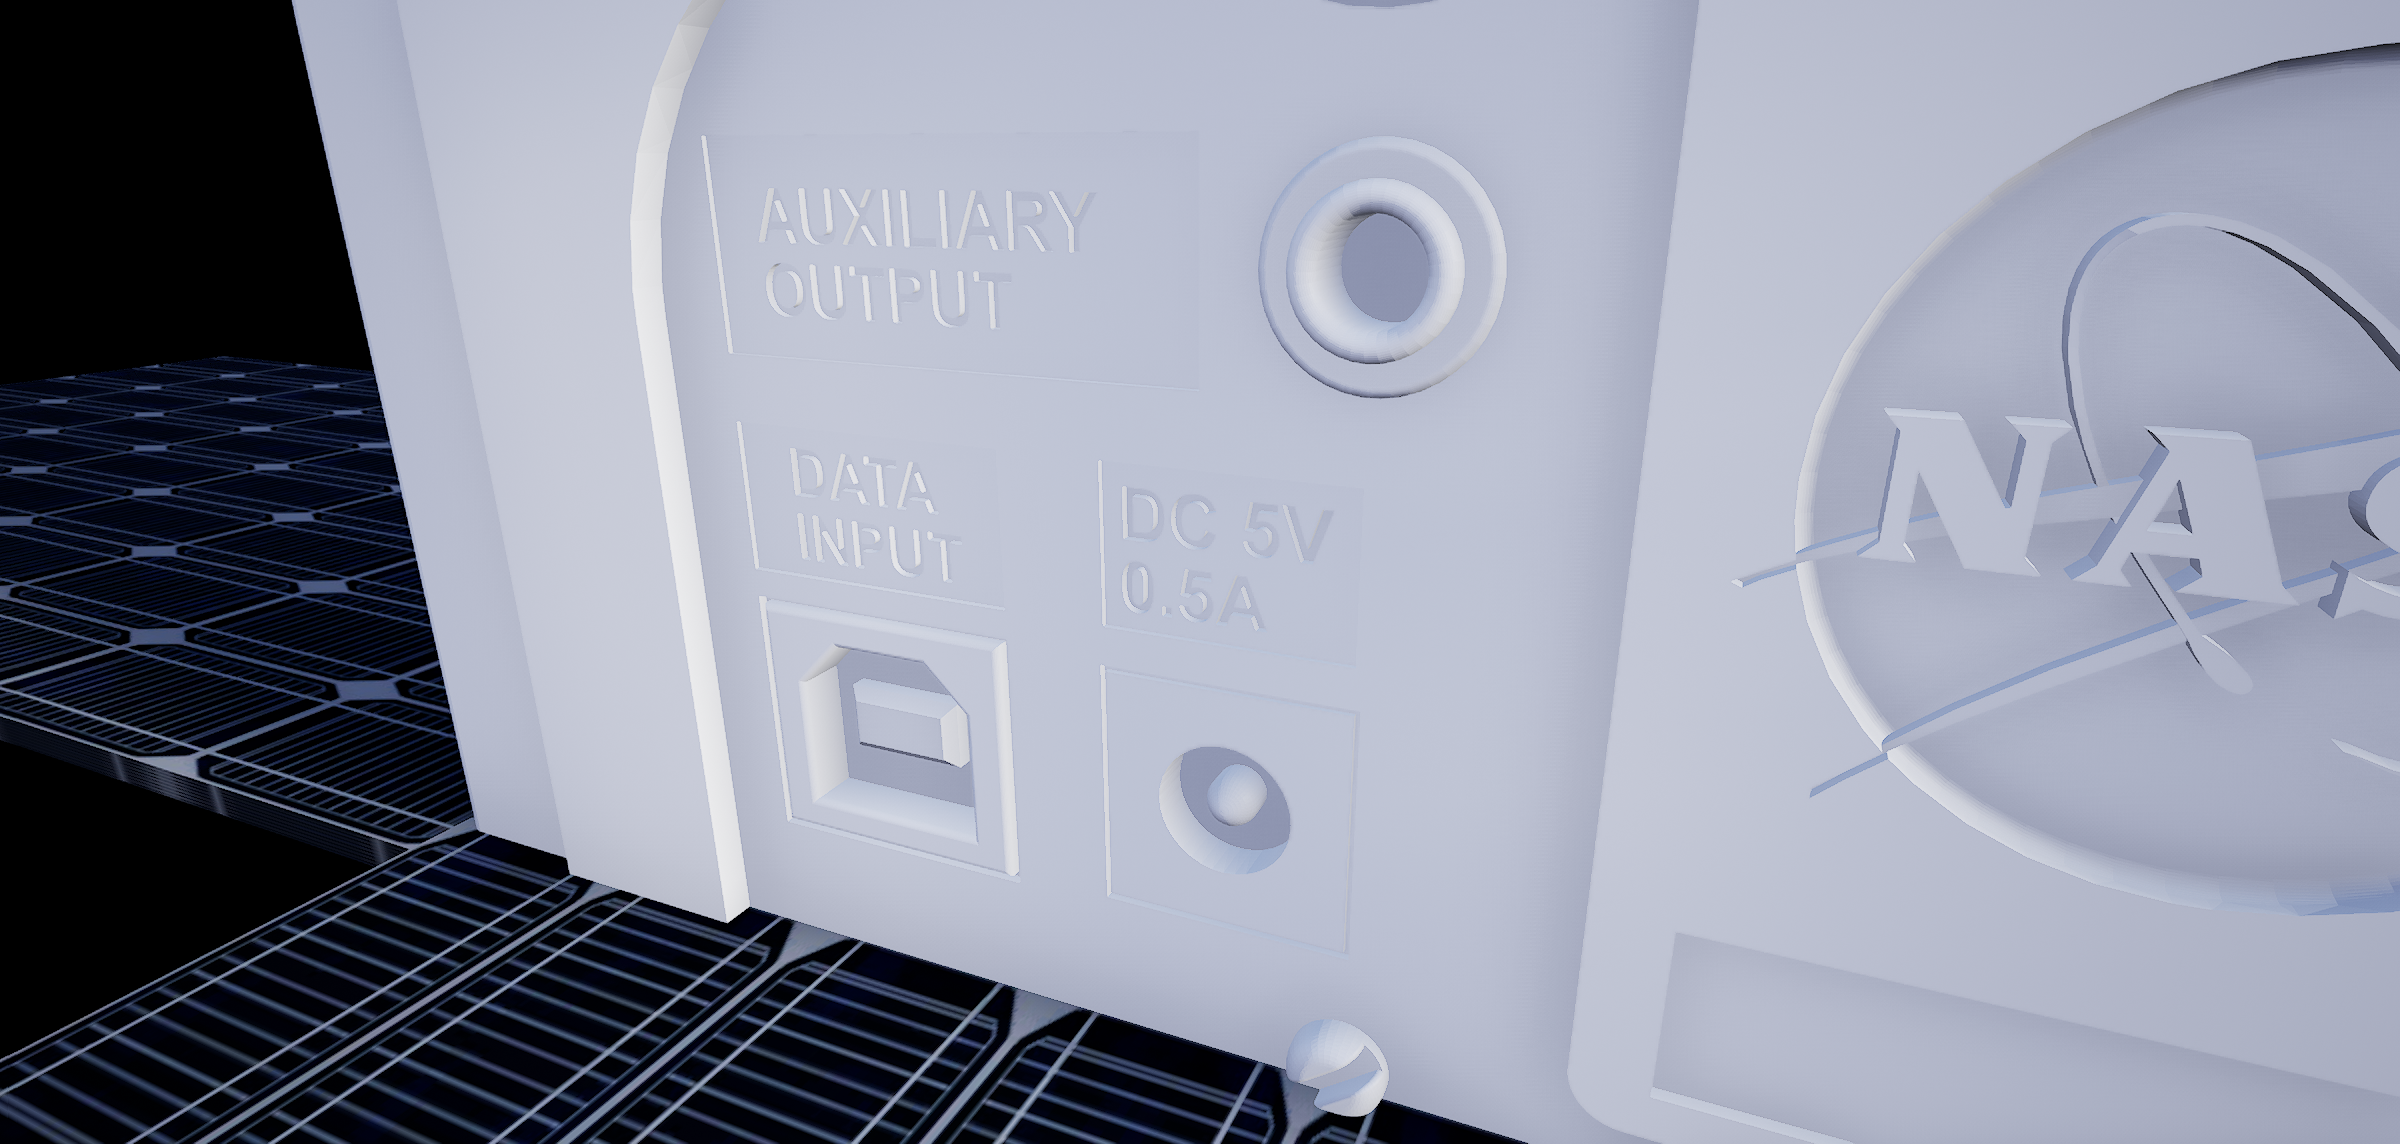aux: (1231, 119, 1538, 444)
dc: (1148, 732, 1309, 881)
usb: (778, 639, 993, 865)
